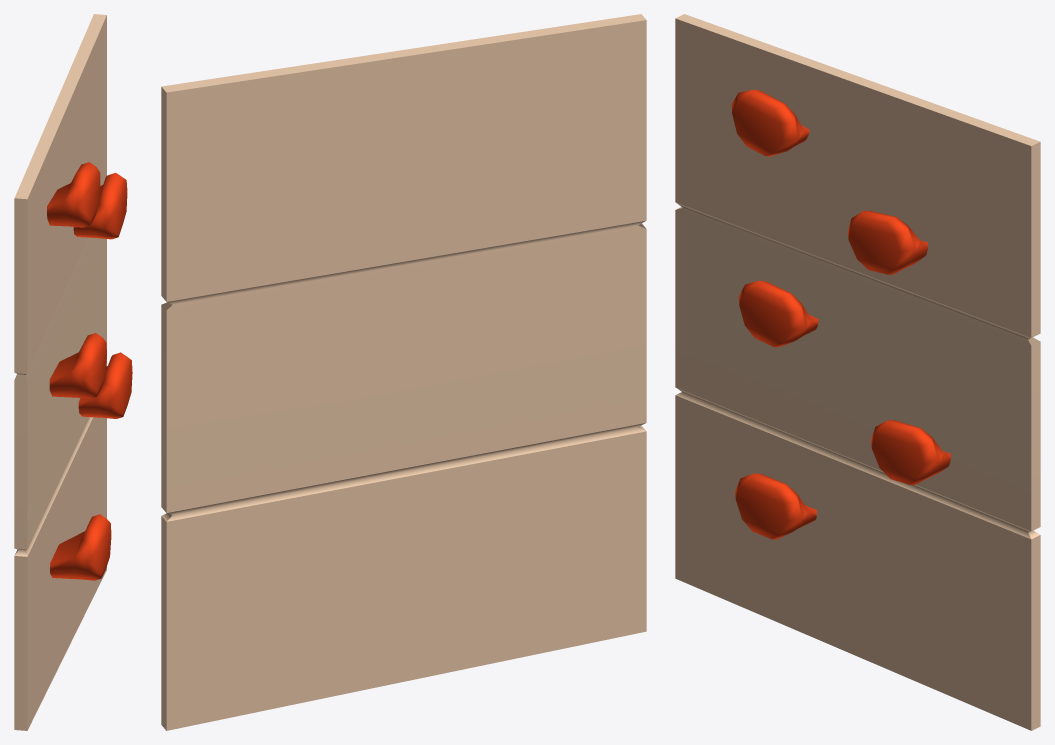
File: PlaygroundSet_RockWall.fbx
3 views of the same model, side by side, from view 1: azimuth 30°, elevation 25°; view 2: azimuth 150°, elevation 25°; view 3: azimuth 270°, elevation 25° (orthographic). The views are drawn at different scales.
Parts seen in each view (by area): view 1: PlaygroundSet_RockWall; view 2: PlaygroundSet_RockWall; view 3: PlaygroundSet_RockWall.
Part boxes in pixels (<box>): PlaygroundSet_RockWall: <box>14,14,132,730</box>; PlaygroundSet_RockWall: <box>161,14,646,730</box>; PlaygroundSet_RockWall: <box>675,14,1040,730</box>.
Size of the model in its own units: 63.29 by 131 by 73.85.
Materials: 1 (1 with a texture image).
